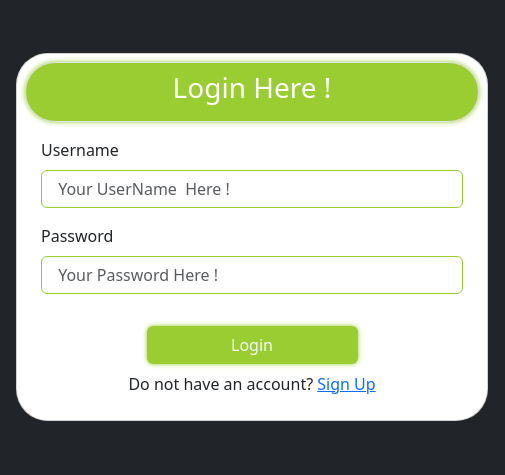
Login() Login method › Edge Cases › should handle network error gracefully
This screenshot has width=505, height=475.
Type "testuser" into the field labelled "Username" at (252, 189), box 41,170 -> 463,208
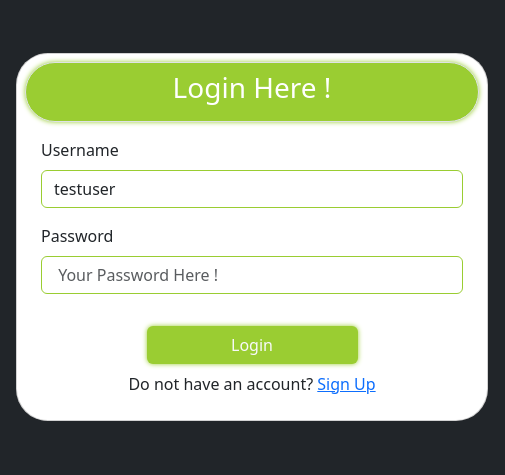
Type "password123" into the password field labelled "Password" at (252, 275), box 41,256 -> 463,294
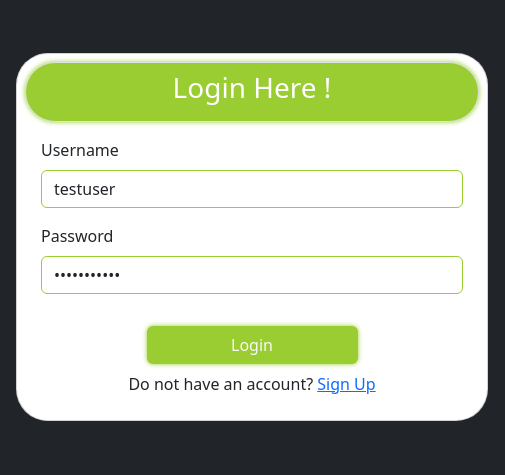
Click the button "Login" at (252, 345), box 146,326 -> 358,364
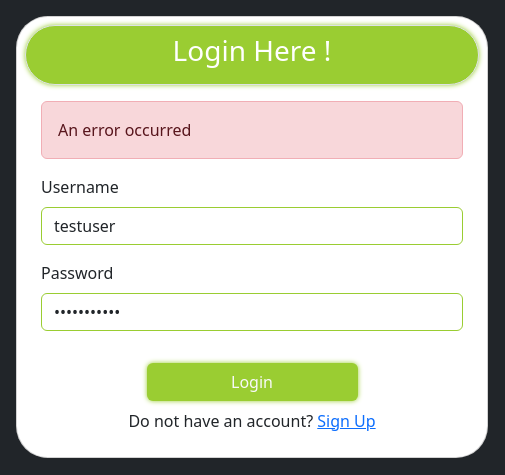
Expected: the text "An error occurred" is shown, 41,101 -> 463,159
